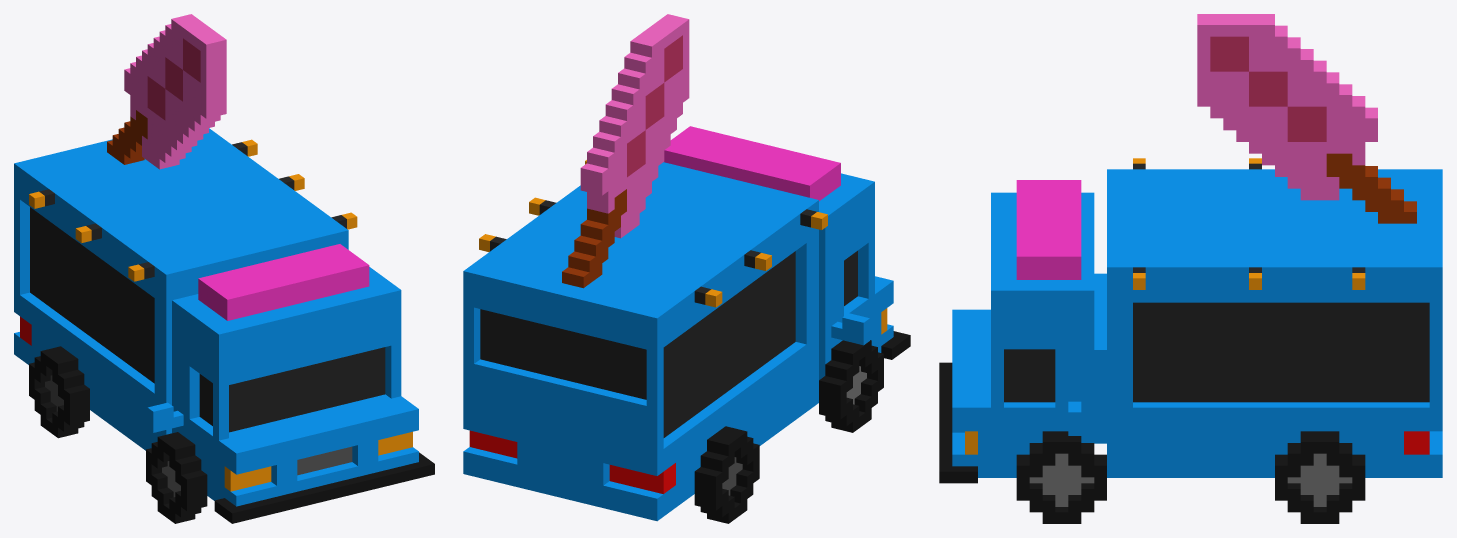
The model's file is bluetruckassets.vox.obj.
The picture shows the model from 3 angles, left to right: view 1: azimuth 30°, elevation 25°; view 2: azimuth 150°, elevation 25°; view 3: azimuth 270°, elevation 25°; orthographic projection. The views are drawn at different scales.
Size of the model in its own units: 2.4 by 3.8 by 3.9.
Materials: 1 (1 with a texture image).
